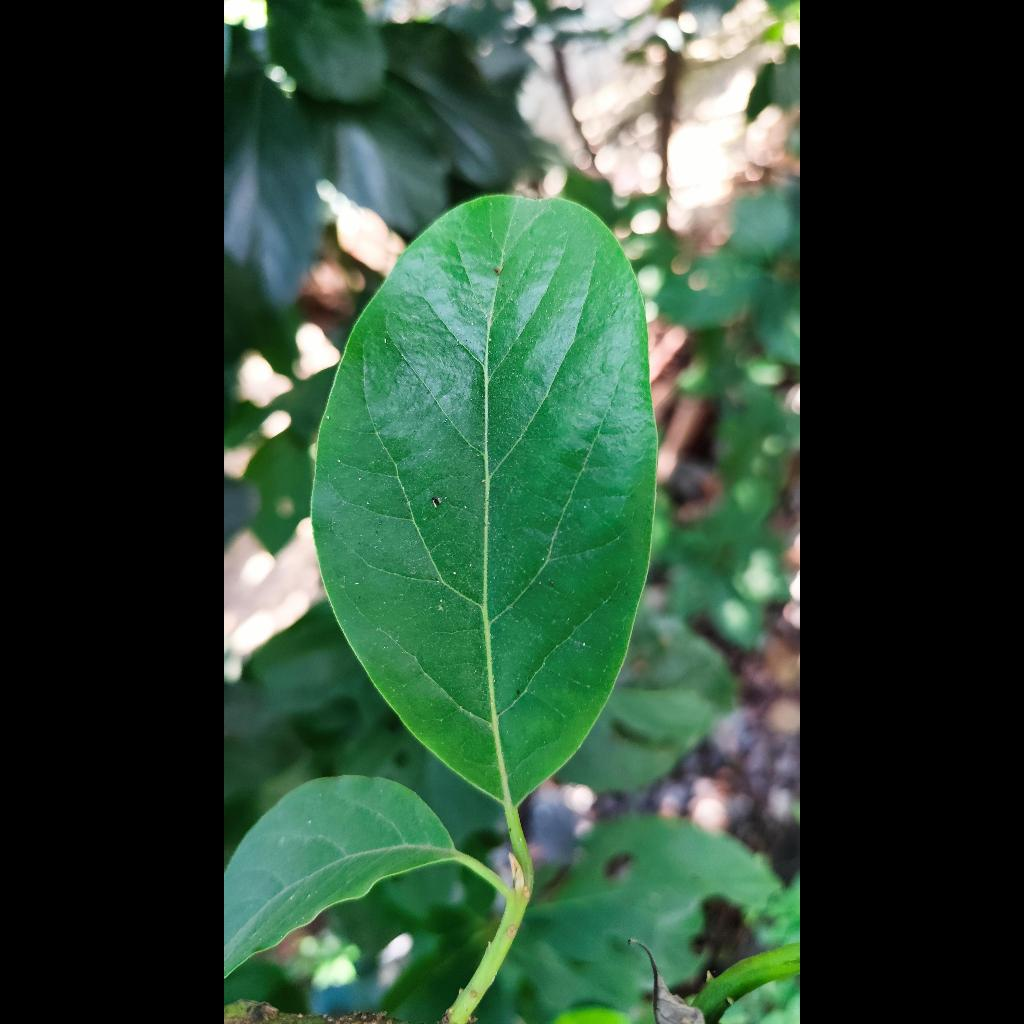Healthy: (312, 196, 656, 806)
